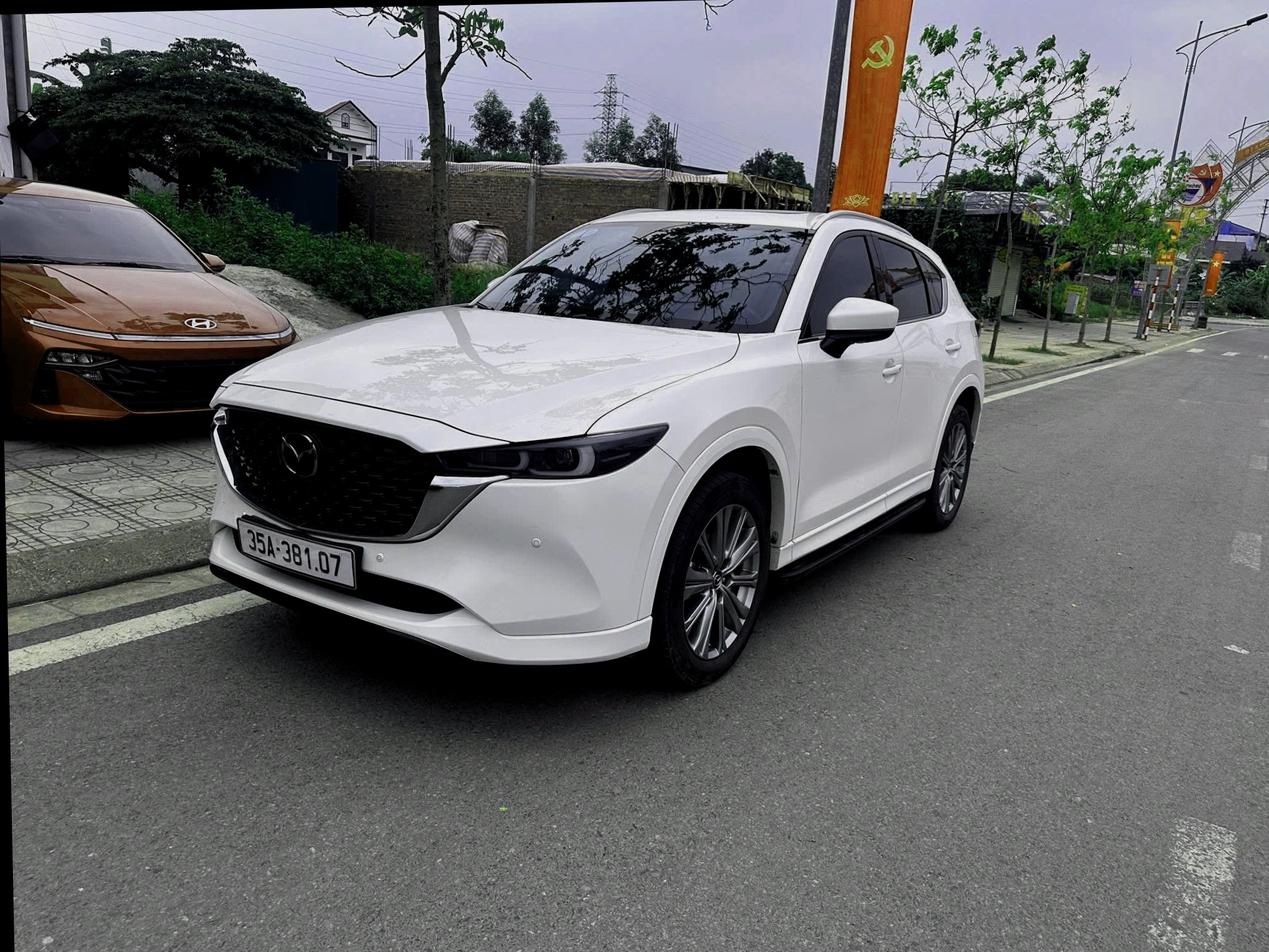Bien-so: (245, 522, 369, 605)
